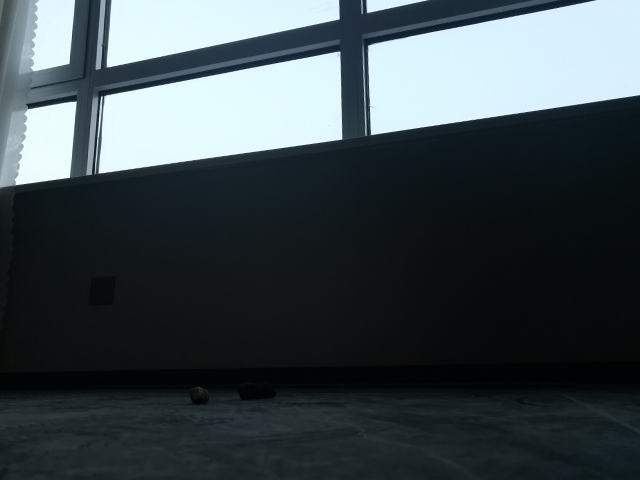feces: (235, 380, 279, 401), (187, 385, 212, 405)
